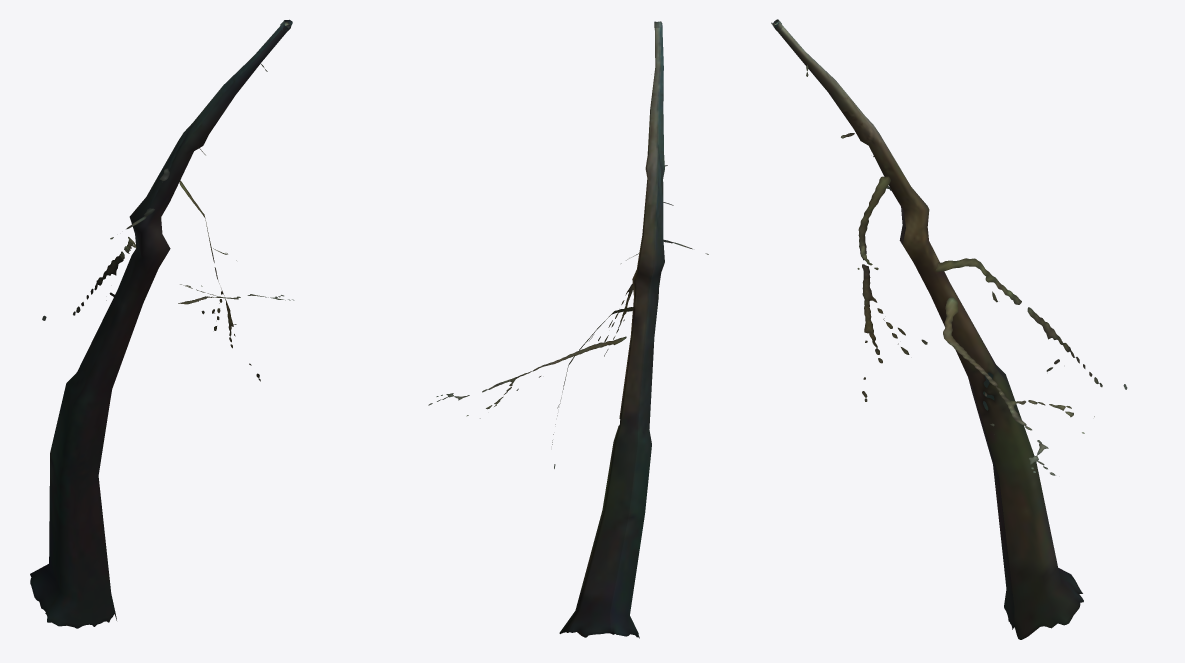
File: MapObject_51.FBX
3 views of the same model, side by side, from view 1: azimuth 30°, elevation 25°; view 2: azimuth 150°, elevation 25°; view 3: azimuth 270°, elevation 25° (orthographic). The views are drawn at different scales.
Visible parts, largest first — view 1: polySurfaceMapGeoMesh338; view 2: polySurfaceMapGeoMesh338; view 3: polySurfaceMapGeoMesh338.
Part boxes in pixels (left/top/right/bottom): polySurfaceMapGeoMesh338: left=30, top=19, right=294, bottom=628; polySurfaceMapGeoMesh338: left=428, top=21, right=708, bottom=638; polySurfaceMapGeoMesh338: left=771, top=19, right=1127, bottom=639.
Bounding box in the file's own units: 322 × 583 × 327.
